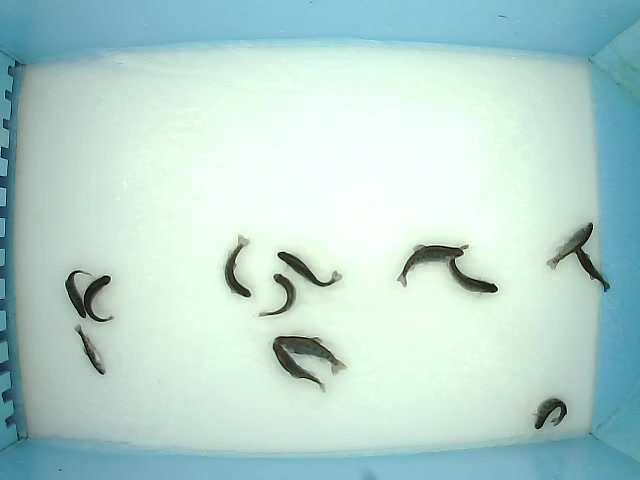fish: (274, 334, 349, 378), (396, 243, 464, 288), (272, 341, 326, 393), (447, 243, 499, 297), (276, 250, 344, 287), (545, 221, 594, 272), (223, 233, 253, 299), (74, 322, 107, 377), (574, 245, 611, 294), (257, 273, 297, 318), (83, 273, 116, 323), (64, 269, 92, 320), (530, 397, 568, 430)
